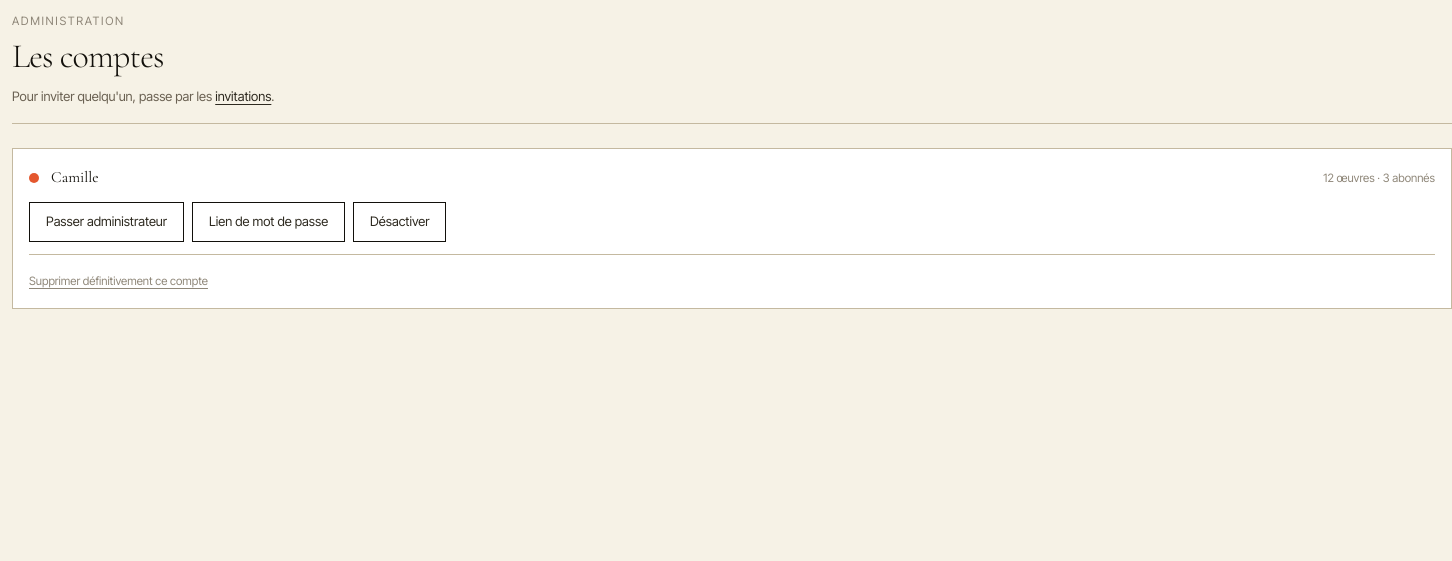
Test: Administration des comptes — les gestes qu’on ne rattrape pas › n’arme pas la suppression tant que le pseudo n’est pas écrit
Click the button "Supprimer définitivement ce compte" at {"x": 118, "y": 281}, box [29,272,208,290]
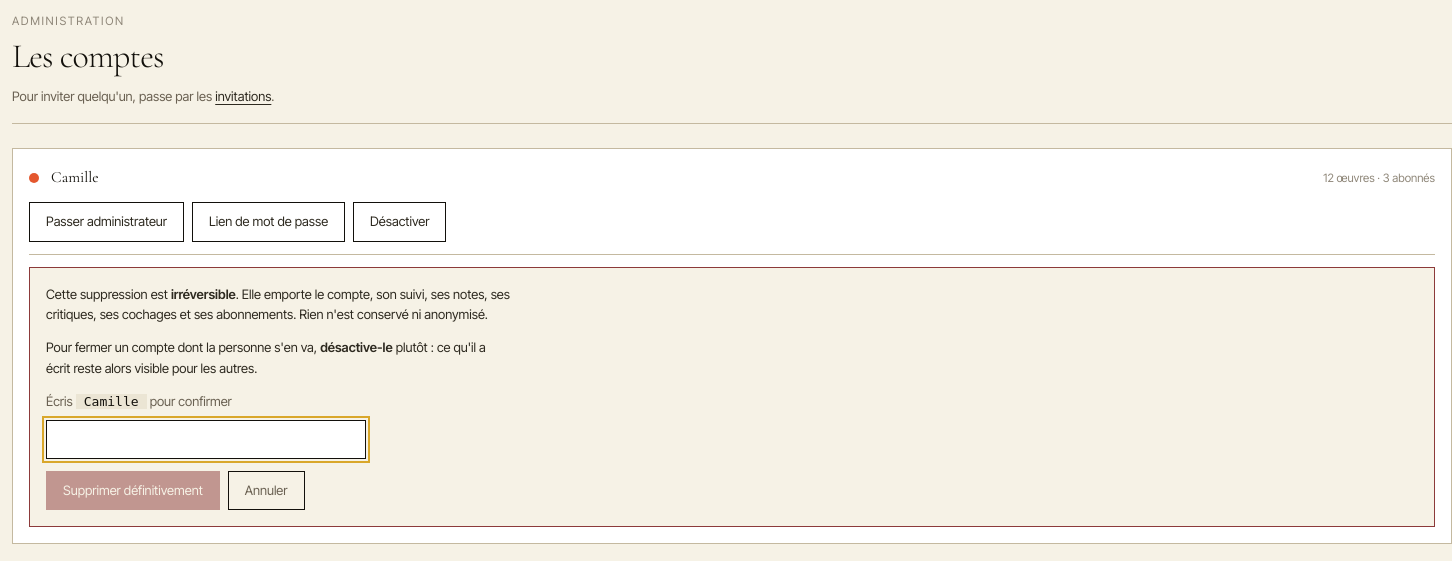
Expected: the button "Supprimer définitivement" is disabled, [46,471,220,510]
Type "camille" into the field at {"x": 206, "y": 439}, box [46,420,366,459]
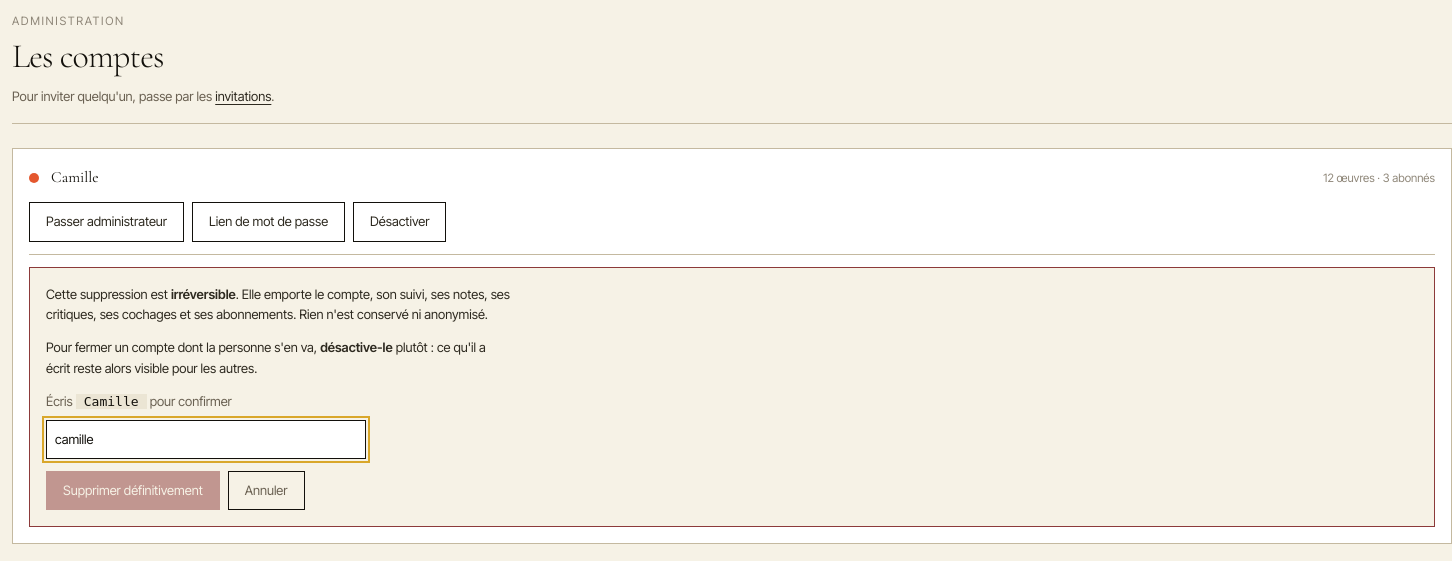
Expected: the button "Supprimer définitivement" is disabled, [46,471,220,510]
Replace the text in the field with "Camille" at {"x": 206, "y": 439}, box [46,420,366,459]
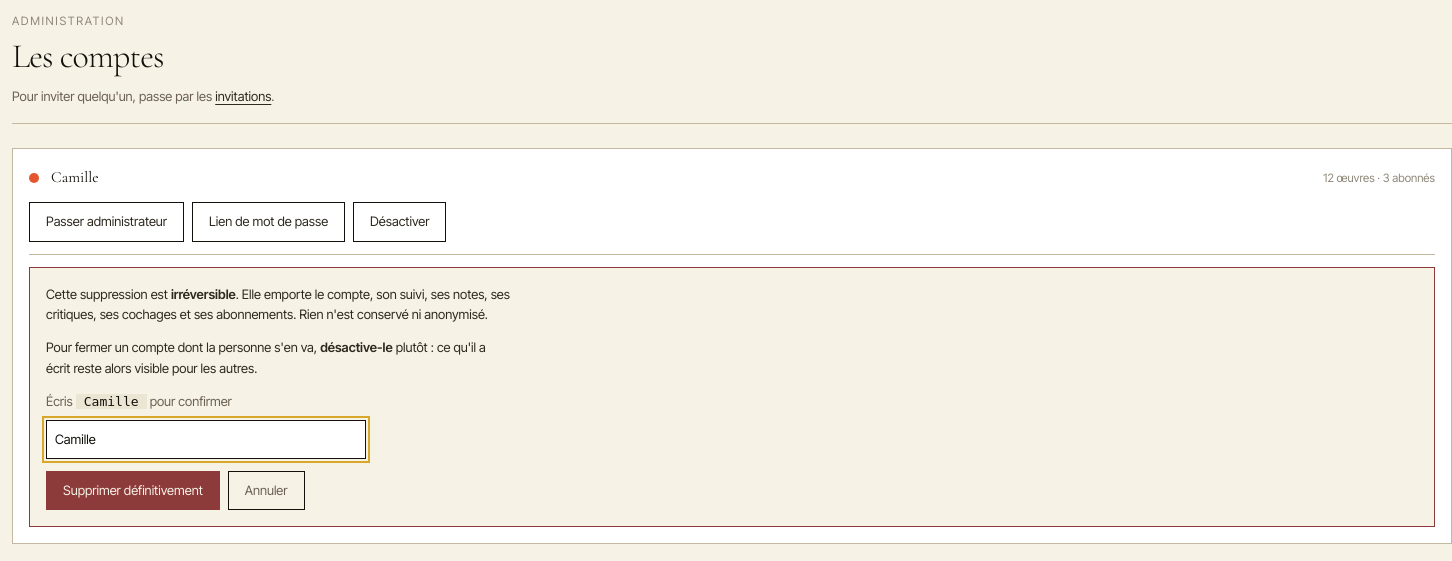
Now the button "Supprimer définitivement" is enabled, box [46,471,220,510]
